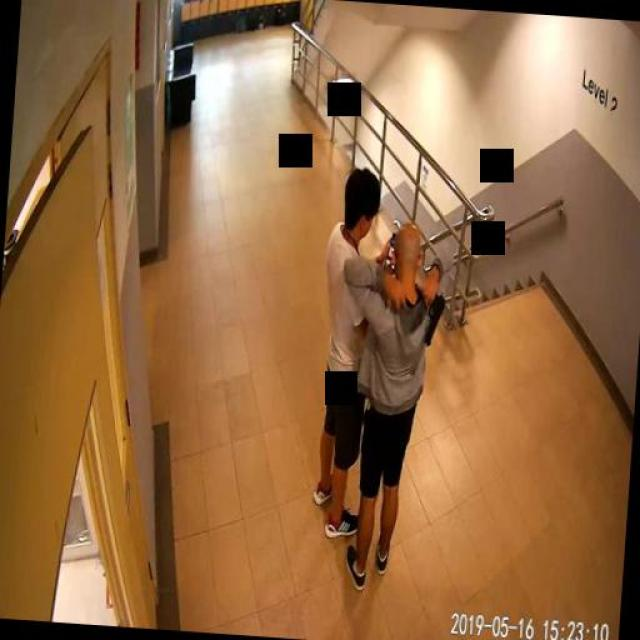gun: (418, 286, 444, 346)
